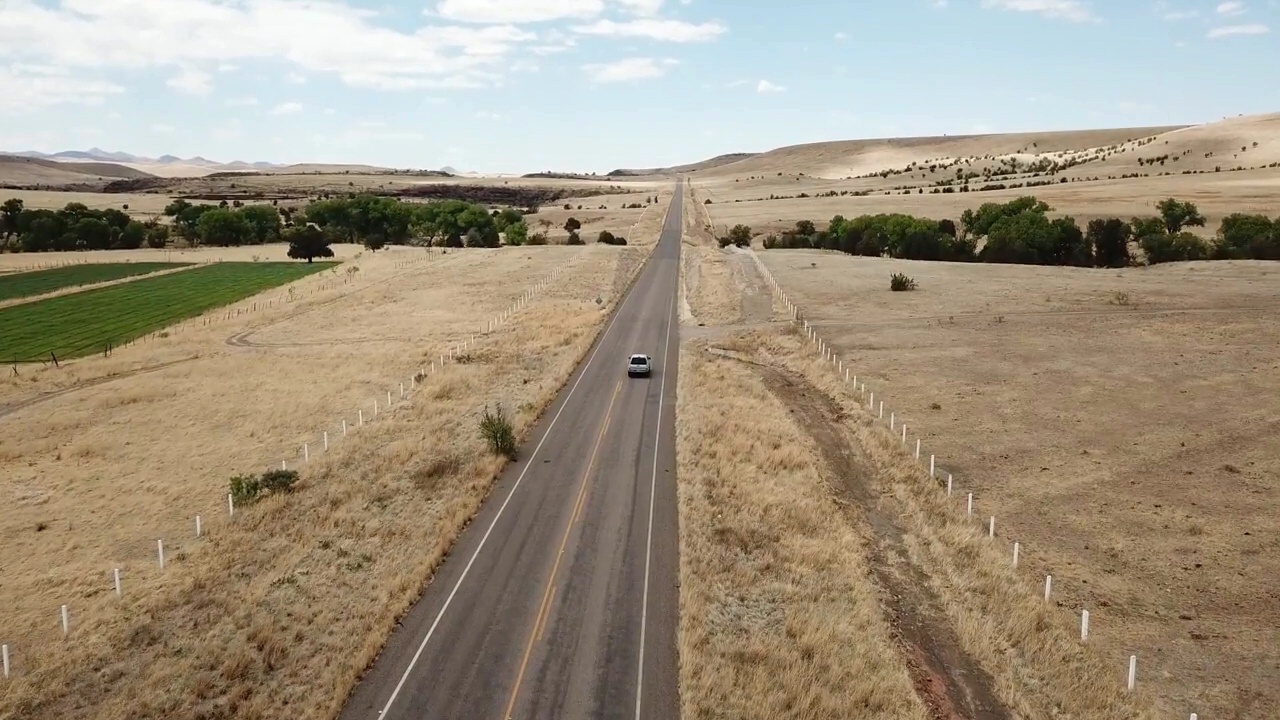araba: (627, 354, 653, 374)
